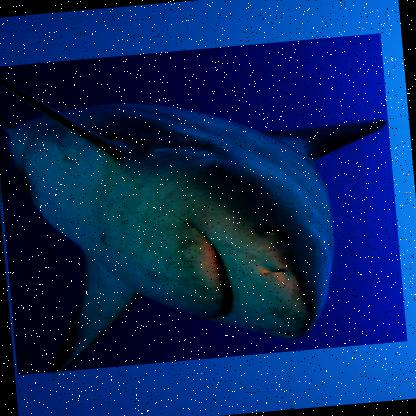bulldog-shark: (0, 34, 407, 378)
